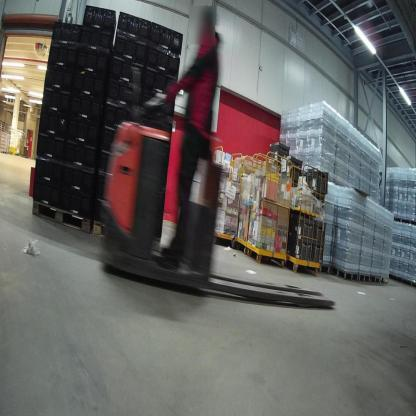pallet: (91, 216, 167, 248), (30, 200, 94, 234)
pallet_truck: (105, 110, 333, 318)
